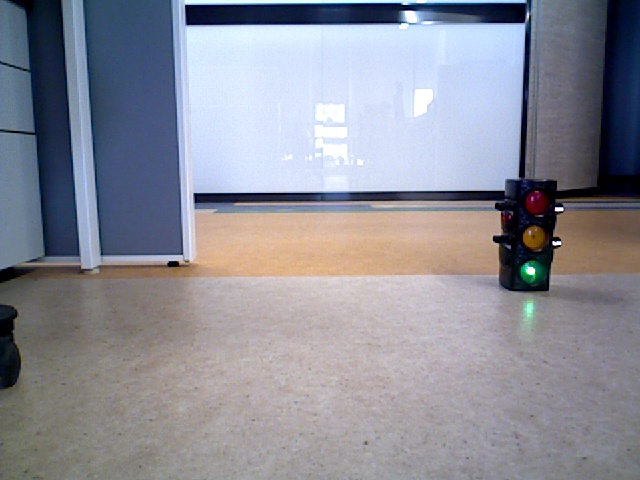green: (509, 182, 548, 287)
